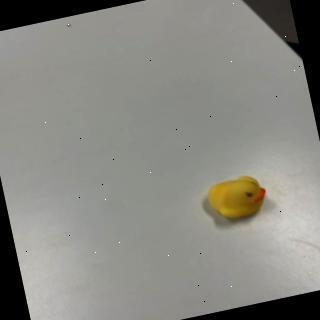duck_regular: (204, 172, 272, 225)
